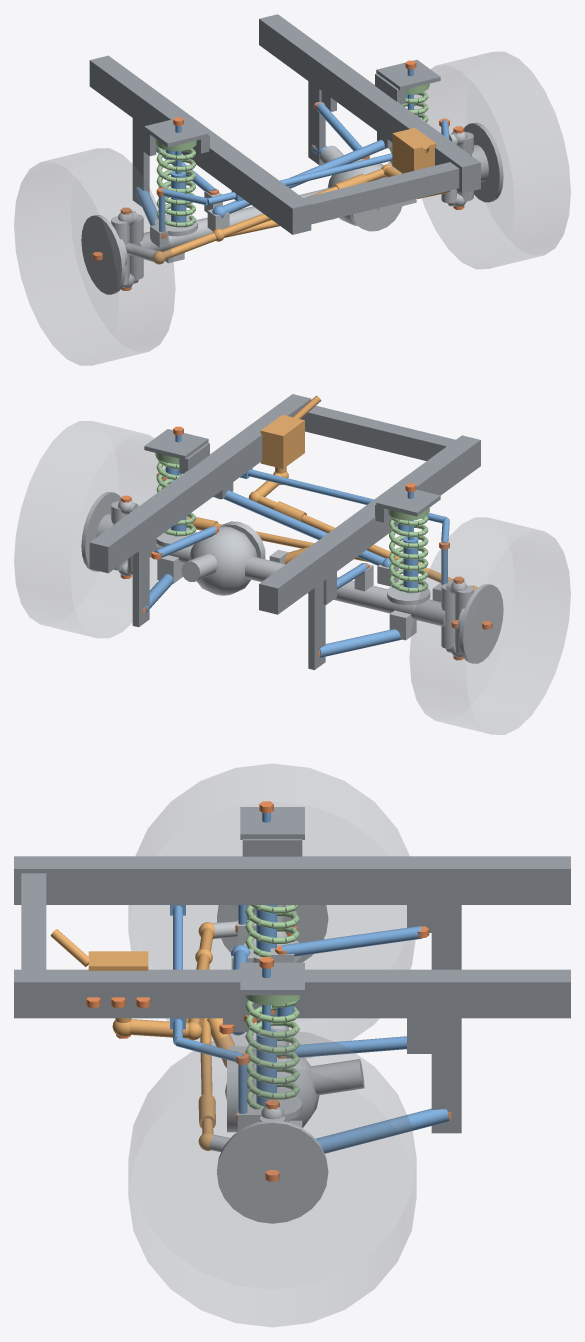
File: xj-front-s0.glb
The picture shows the model from 3 angles, top to bottom: view 1: azimuth 30°, elevation 25°; view 2: azimuth 150°, elevation 25°; view 3: azimuth 270°, elevation 25°; orthographic projection. The views are drawn at different scales.
Visible parts, largest first — view 1: xj_wheel_passenger, xj_body_frame, xj_wheel_driver, xj_axle_housing, xj_axle_hub_passenger, xj_susp_coil_passenger, xj_axle_hub_driver, xj_susp_sway_bar, xj_steer_box, xj_steer_drag_link, xj_susp_track_bar, xj_axle_knuckle_passenger (+4 smaller); view 2: xj_wheel_passenger, xj_body_frame, xj_wheel_driver, xj_axle_housing, xj_axle_hub_passenger, xj_susp_coil_passenger, xj_steer_box, xj_susp_track_bar, xj_susp_sway_bar, xj_axle_hub_driver, xj_susp_lca_passenger, xj_steer_drag_link (+6 smaller); view 3: xj_wheel_driver, xj_body_frame, xj_wheel_passenger, xj_axle_hub_driver, xj_axle_housing, xj_susp_coil_driver, xj_susp_lca_driver, xj_susp_uca_passenger, xj_axle_hub_passenger, xj_steer_box, xj_susp_sway_bar, xj_susp_coil_passenger (+5 smaller).
Part boxes in pixels (x1,y1,x2,y2): xj_wheel_passenger: (14,148,175,365); xj_body_frame: (89,14,480,234); xj_wheel_driver: (414,52,570,268); xj_axle_housing: (130,133,458,283); xj_axle_hub_passenger: (81,215,127,294); xj_susp_coil_passenger: (155,138,196,227); xj_axle_hub_driver: (464,122,503,202); xj_susp_sway_bar: (161,119,449,205); xj_steer_box: (392,128,436,173); xj_steer_drag_link: (153,164,392,264); xj_susp_track_bar: (212,139,391,217); xj_axle_knuckle_passenger: (111,216,156,285); xj_wheel_passenger: (409,517,570,734); xj_body_frame: (89,394,480,669); xj_wheel_driver: (14,421,165,637); xj_axle_housing: (126,503,454,652); xj_axle_hub_passenger: (457,584,503,663); xj_susp_coil_passenger: (388,508,429,592); xj_steer_box: (260,395,321,473); xj_susp_track_bar: (216,490,390,567); xj_susp_sway_bar: (181,468,449,542); xj_axle_hub_driver: (81,492,120,571); xj_susp_lca_passenger: (319,629,401,657); xj_steer_drag_link: (248,491,477,590); xj_wheel_driver: (128,1028,416,1327); xj_body_frame: (14,807,570,1133); xj_wheel_passenger: (128,763,415,1057); xj_axle_hub_driver: (217,1120,328,1223); xj_axle_housing: (225,905,364,1132); xj_susp_coil_driver: (244,995,300,1109); xj_susp_lca_driver: (315,1108,449,1153); xj_susp_uca_passenger: (281,926,422,956); xj_axle_hub_passenger: (217,905,328,962); xj_steer_box: (50,929,148,1022); xj_susp_sway_bar: (170,905,243,1061); xj_susp_coil_passenger: (245,905,299,956).
Bounding box in the file's own units: 1.83 × 0.8293 × 1.42.
